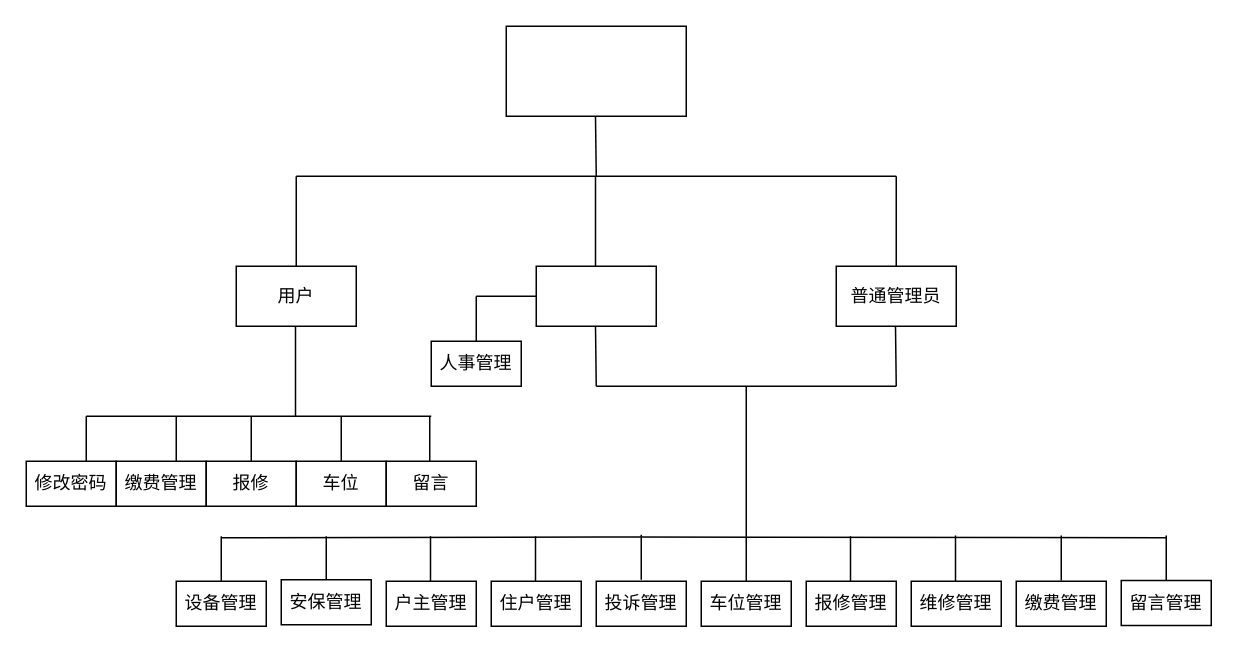
Some shapes in this 1238 by 653 pixel diagram are drawn without their labels. Here are the shapes that lost their labels. From the top down, the centre of each, then its label:
(x=595, y=70): 物业管理系统
(x=595, y=295): 超级管理员
